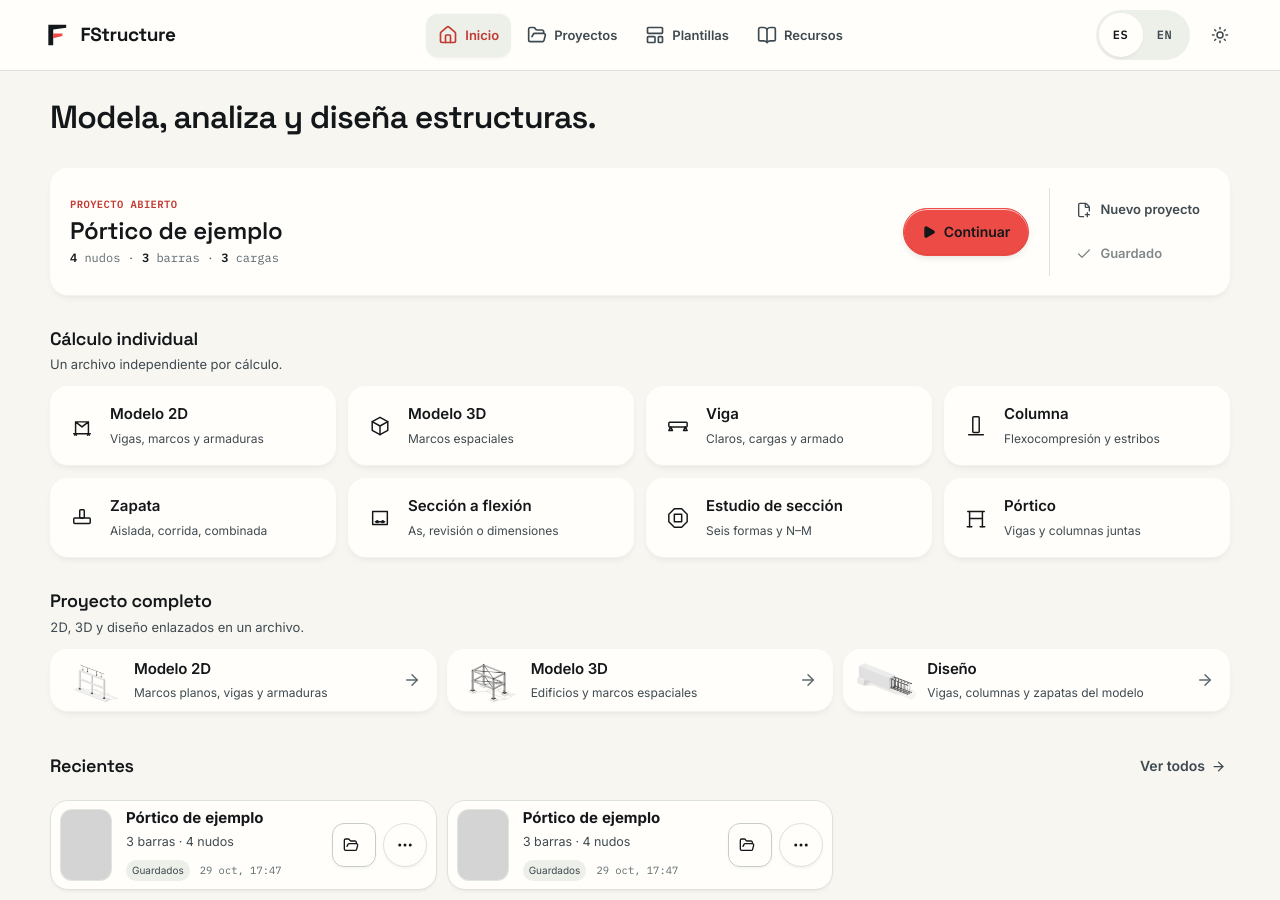
standalone FStructure › las secciones de la Home viven en la URL y vuelven al inicio
The width and height of the screenshot is (1280, 900).
What coordinates should you click on to do the following:
click the button "Ver todos"
I would click on:
 (1183, 766)
Its box is [1136, 744, 1230, 788].
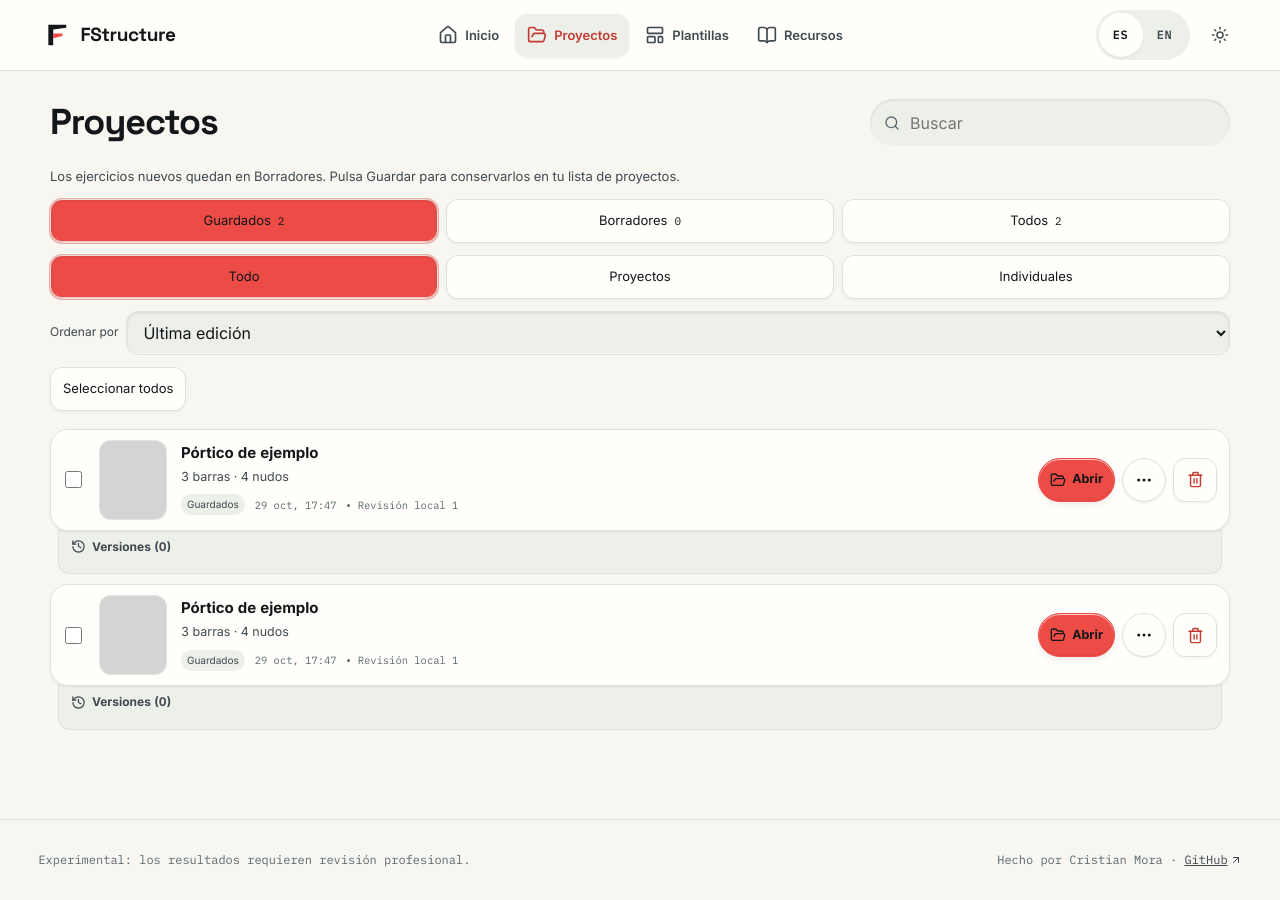
Now the heading "Proyectos" is shown, box [50, 99, 218, 145]
What coordinates should you click on to do the following:
click the button "Inicio"
I would click on:
 (469, 35)
Its box is [426, 13, 511, 57].
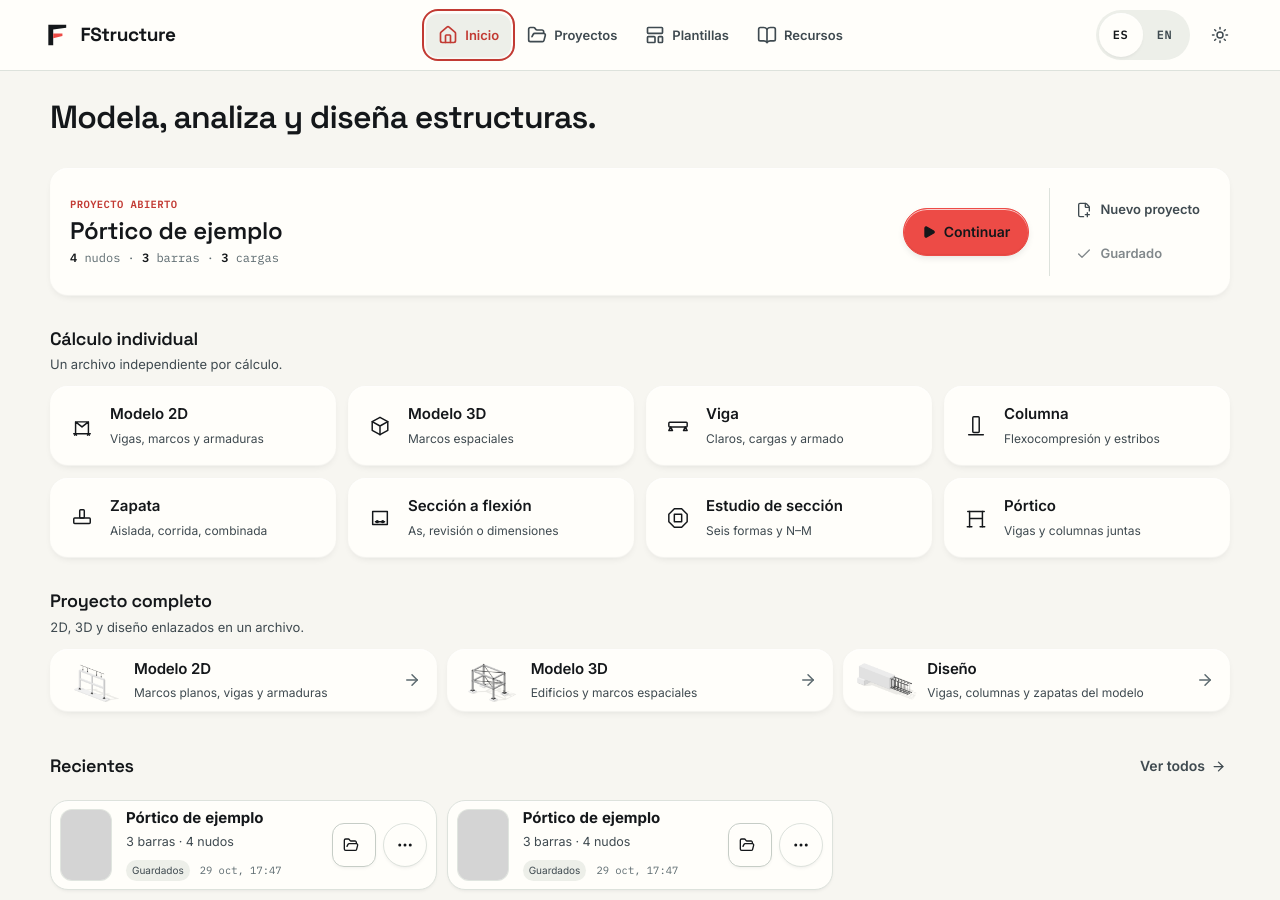
Now the heading "Modela, analiza y diseña estructuras." is shown, box [50, 97, 596, 137]
